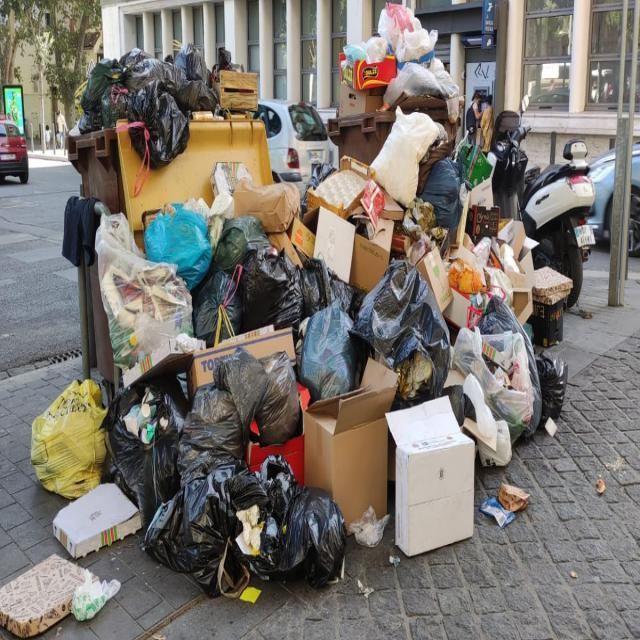Trashbag: (359, 267, 451, 390), (104, 383, 189, 492), (180, 468, 278, 553), (280, 481, 346, 580), (232, 352, 303, 436), (178, 388, 241, 474), (231, 246, 288, 332), (281, 258, 353, 324), (133, 87, 188, 170), (143, 497, 200, 570), (83, 46, 165, 94), (420, 156, 470, 232), (174, 46, 222, 115), (192, 275, 241, 342)
